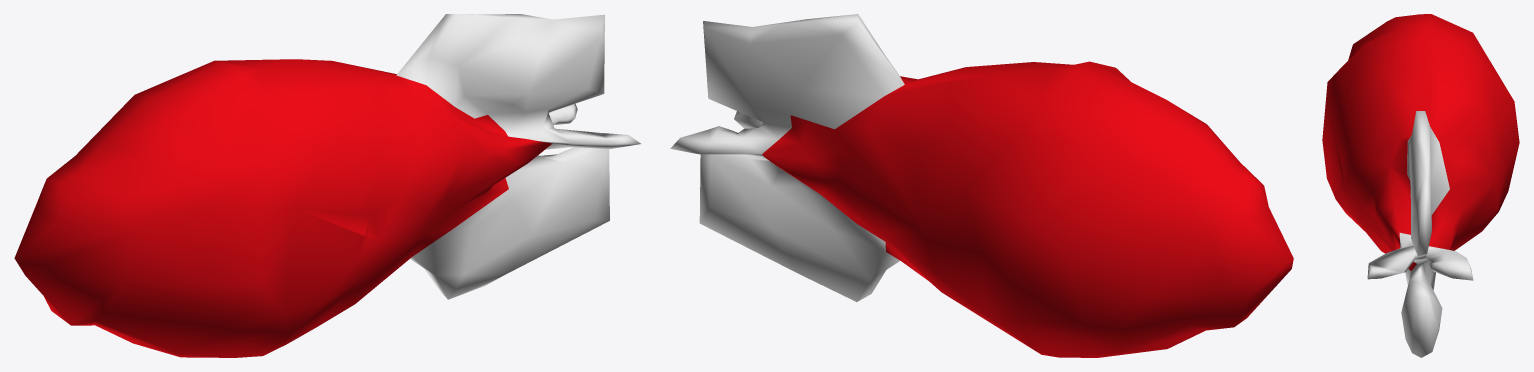
Rendered from nuke_bomb_3d_round_0723133636 1.fbx.
The picture shows the model from 3 angles, left to right: view 1: azimuth 30°, elevation 25°; view 2: azimuth 150°, elevation 25°; view 3: azimuth 270°, elevation 25°; orthographic projection. The views are drawn at different scales.
Visible parts, largest first — view 1: Mesh_0; view 2: Mesh_0; view 3: Mesh_0.
Part boxes in pixels (x1=…): Mesh_0: x1=14, y1=14, x2=640, y2=357; Mesh_0: x1=670, y1=14, x2=1293, y2=357; Mesh_0: x1=1322, y1=14, x2=1519, y2=357.
Size of the model in its own units: 120 by 56.06 by 44.85.
